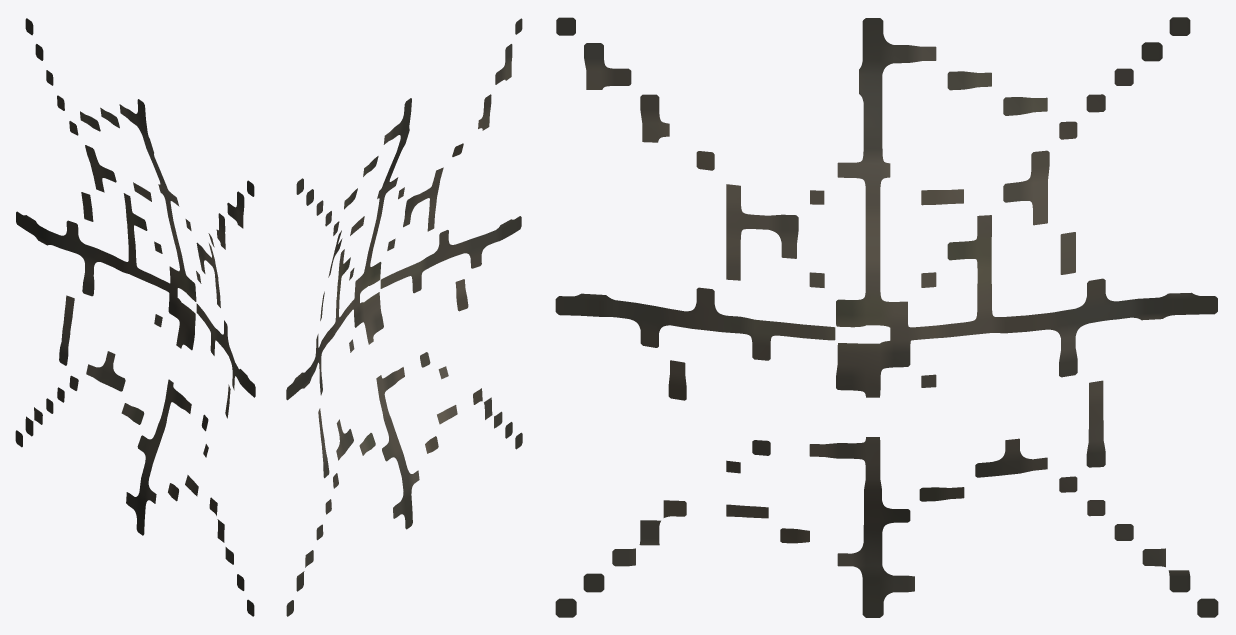
The model's file is ObjMD_SpiderNest_A.FBX.
The picture shows the model from 3 angles, left to right: view 1: azimuth 30°, elevation 25°; view 2: azimuth 150°, elevation 25°; view 3: azimuth 270°, elevation 25°; orthographic projection. The views are drawn at different scales.
Visible parts, largest first — view 1: ObjMD_SpiderNest_A; view 2: ObjMD_SpiderNest_A; view 3: ObjMD_SpiderNest_A.
Boxes of the visible parts, box(x1,y1,x2,y2) form: ObjMD_SpiderNest_A: box(15, 18, 255, 616); ObjMD_SpiderNest_A: box(286, 18, 522, 616); ObjMD_SpiderNest_A: box(555, 17, 1218, 617).
Size of the model in its own units: 15.91 by 150 by 150.
